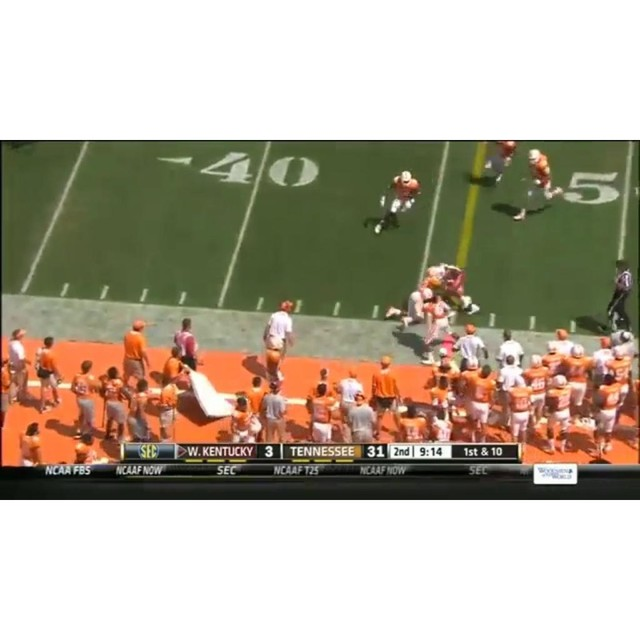american-football-player: (383, 269, 447, 328), (516, 148, 566, 218), (369, 169, 421, 236), (425, 263, 481, 315), (467, 141, 518, 187)
referee: (605, 259, 637, 330)
